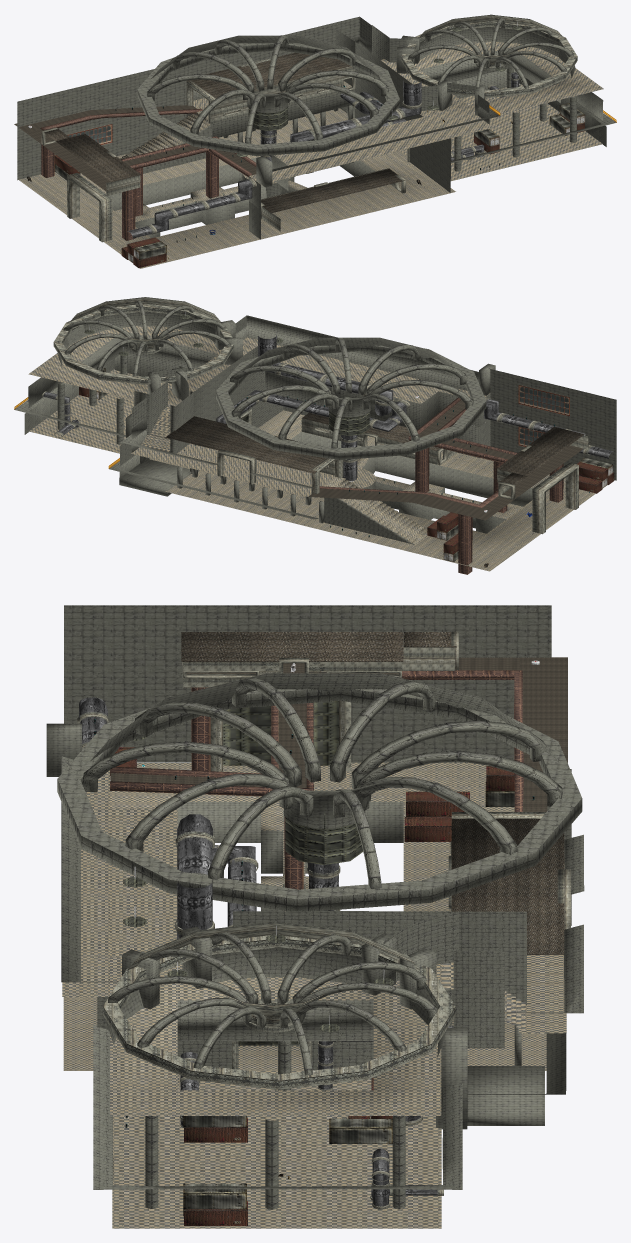
File: factory.gltf
3 renders of one model, top to bottom at view 1: azimuth 30°, elevation 25°; view 2: azimuth 150°, elevation 25°; view 3: azimuth 270°, elevation 25°, orthographic. The views are drawn at different scales.
Visible parts, largest first — view 1: World; view 2: World; view 3: World.
Part boxes in pixels (x1=…): World: x1=14, y1=14, x2=616, y2=268; World: x1=14, y1=297, x2=616, y2=574; World: x1=46, y1=605, x2=584, y2=1228.
Size of what is drawn, in the model's own units: 108 by 26.14 by 51.68.
